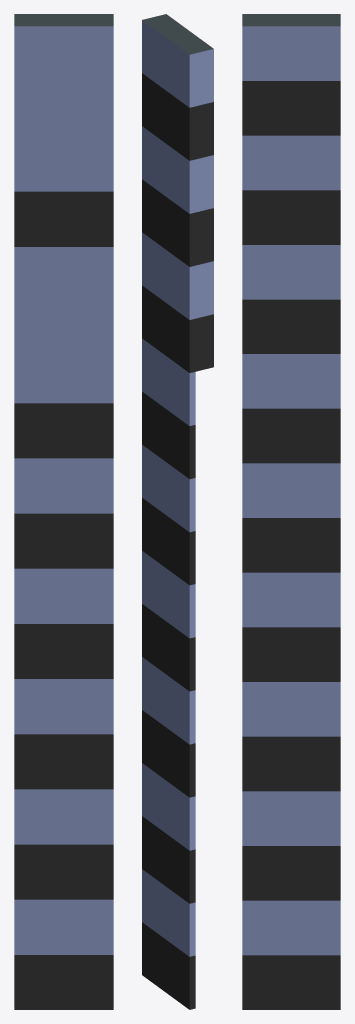
File: Lift_01.fbx
3 views of the same model, side by side, from view 1: azimuth 90°, elevation 25°; view 2: azimuth 210°, elevation 25°; view 3: azimuth 270°, elevation 25° (orthographic). The views are drawn at different scales.
Visible parts, largest first — view 1: Circle.016; view 2: Circle.016; view 3: Circle.016.
Boxes of the visible parts, x1=… form: Circle.016: x1=14, y1=14, x2=113, y2=1009; Circle.016: x1=142, y1=14, x2=213, y2=1009; Circle.016: x1=242, y1=14, x2=340, y2=1009.
Bounding box in the file's own units: 0.4 × 15 × 1.36.
